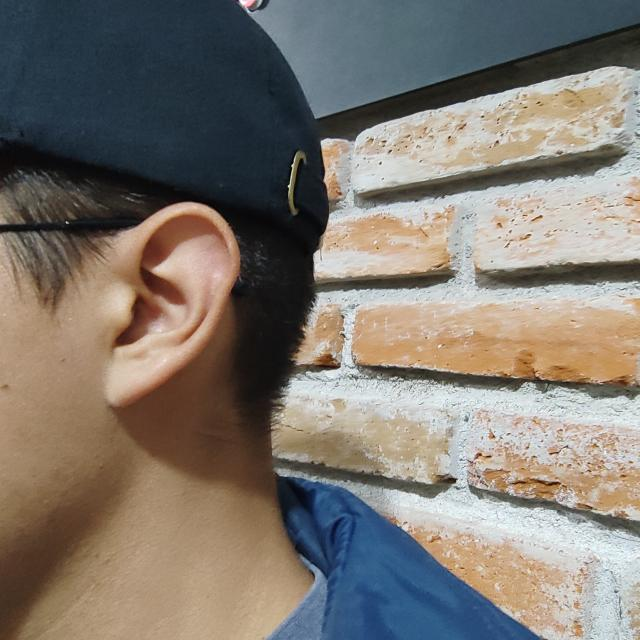ear: (99, 202, 240, 406)
